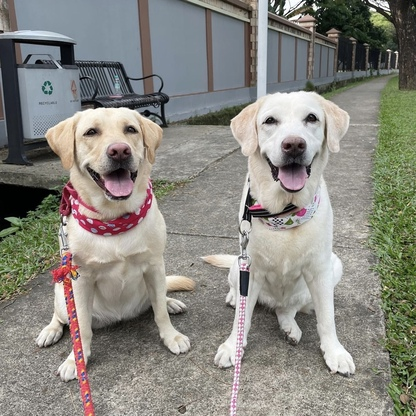labrado: (199, 87, 359, 382), (31, 104, 197, 386)
